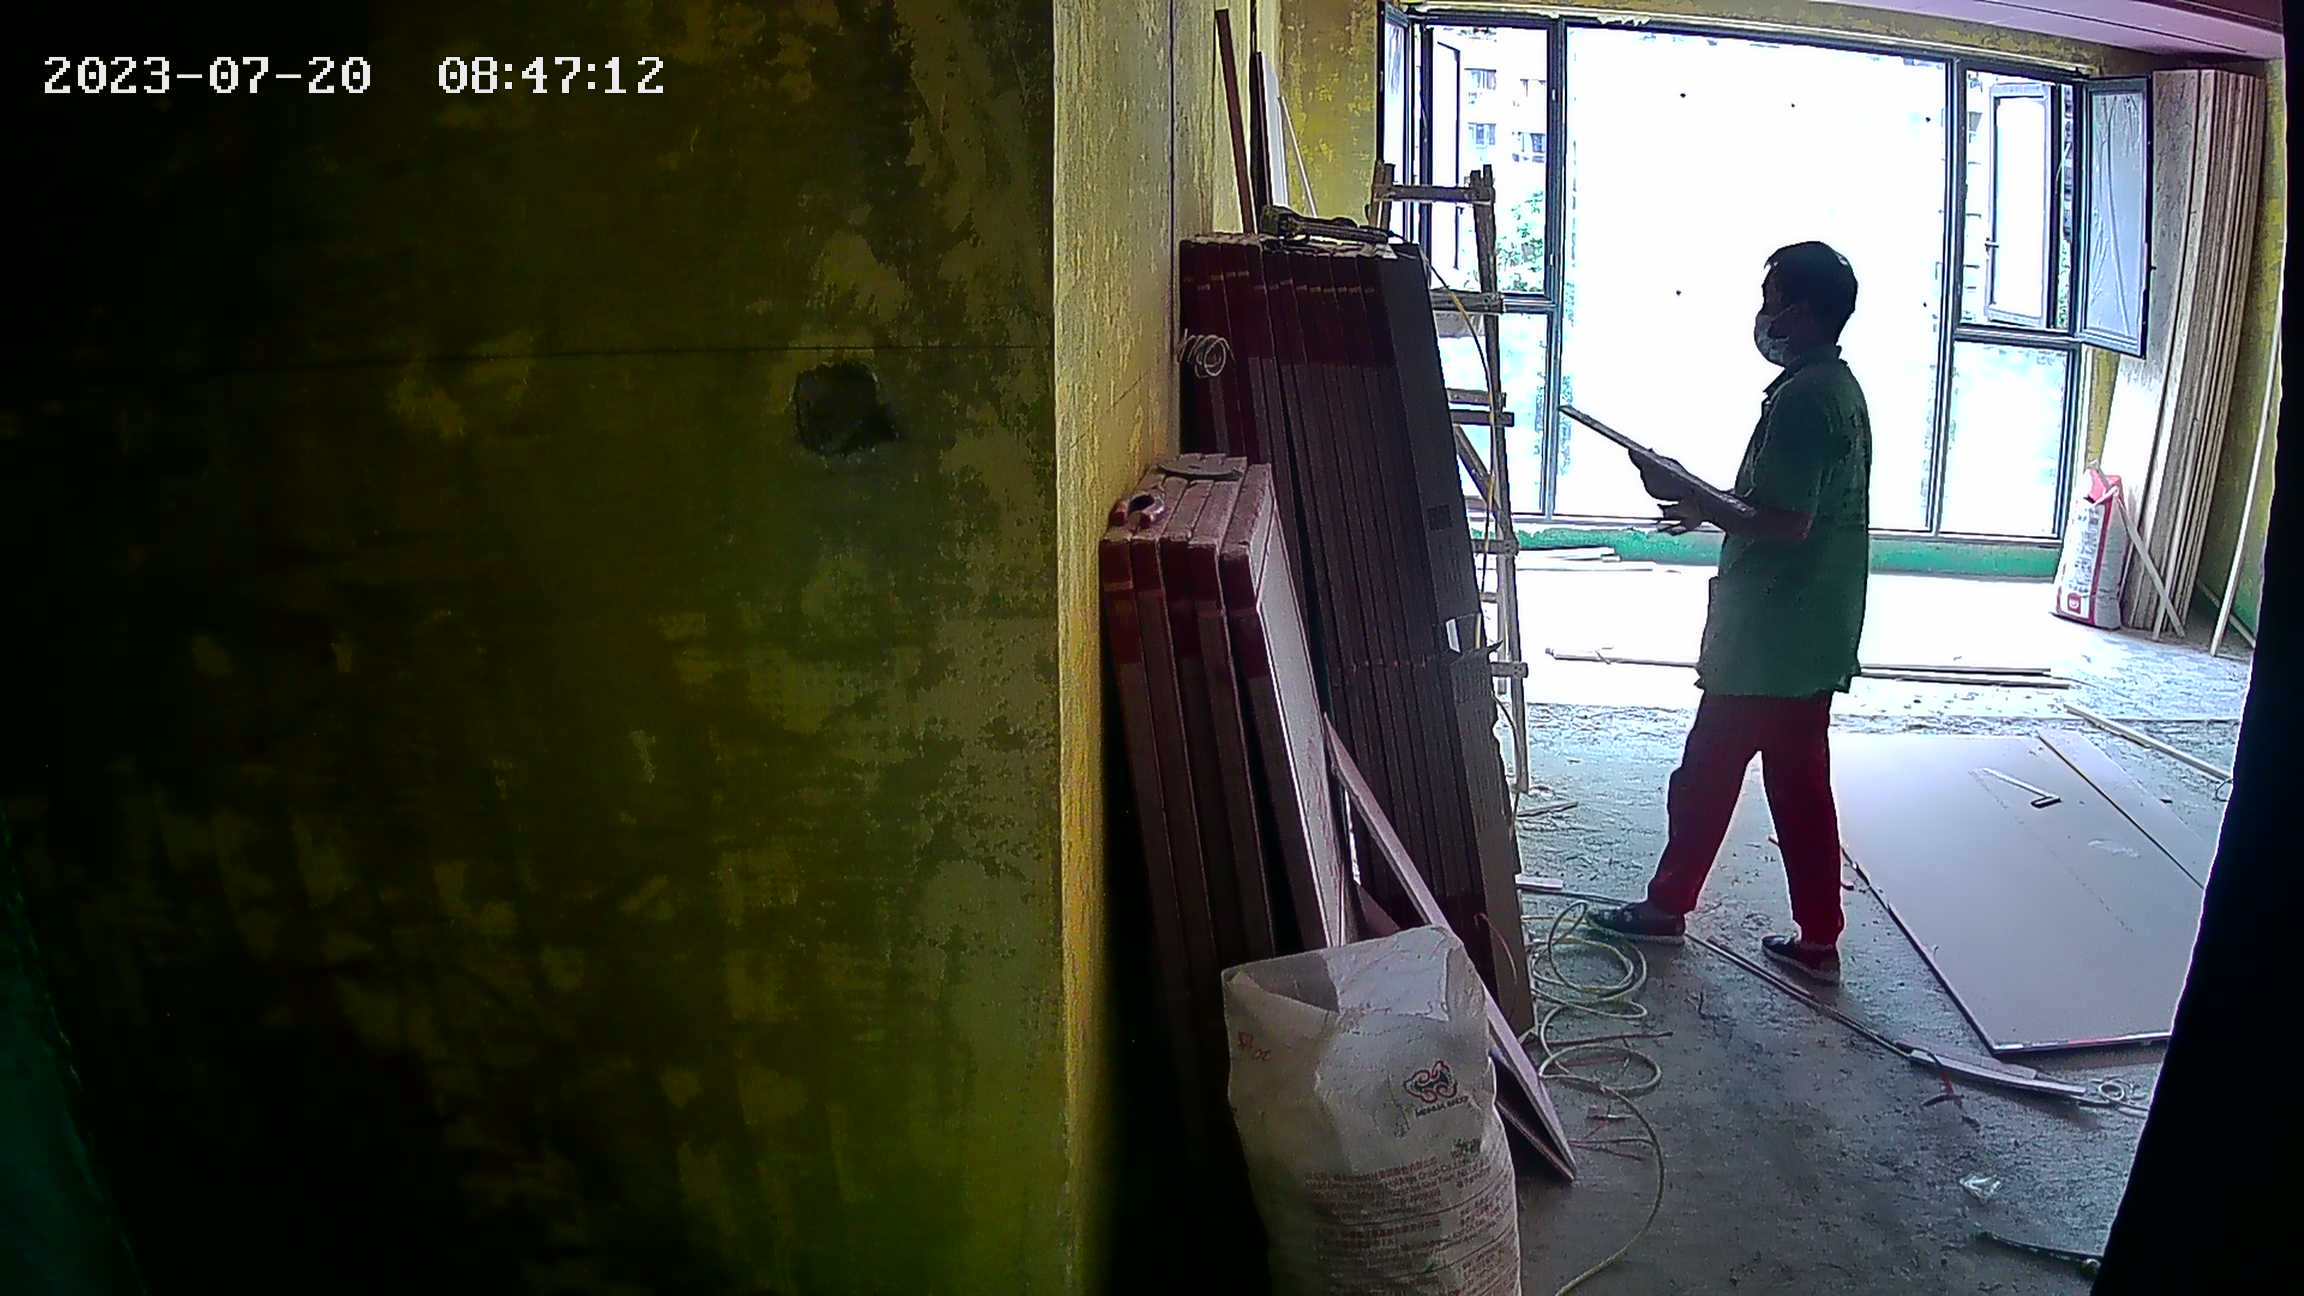people: (1613, 236, 1858, 997)
window: (1411, 15, 2082, 552)
